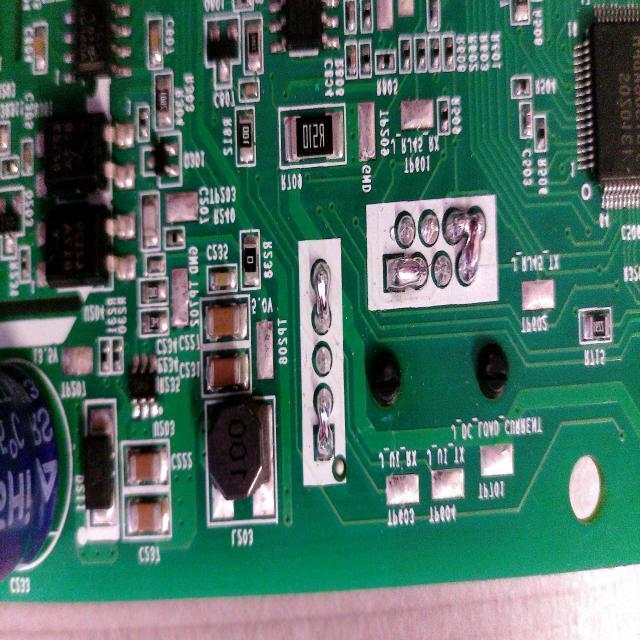Soldering shorted: (444, 198, 488, 292), (382, 248, 430, 300), (310, 257, 335, 342), (315, 383, 333, 459)
